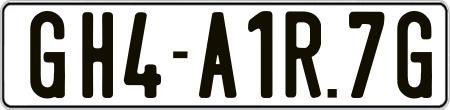1: (245, 8, 273, 97)
4: (121, 12, 159, 103)
7: (349, 11, 384, 103)
A: (197, 9, 236, 95)
G: (27, 10, 67, 101), (394, 10, 430, 102)
H: (80, 10, 115, 102)
R: (284, 11, 320, 99)
